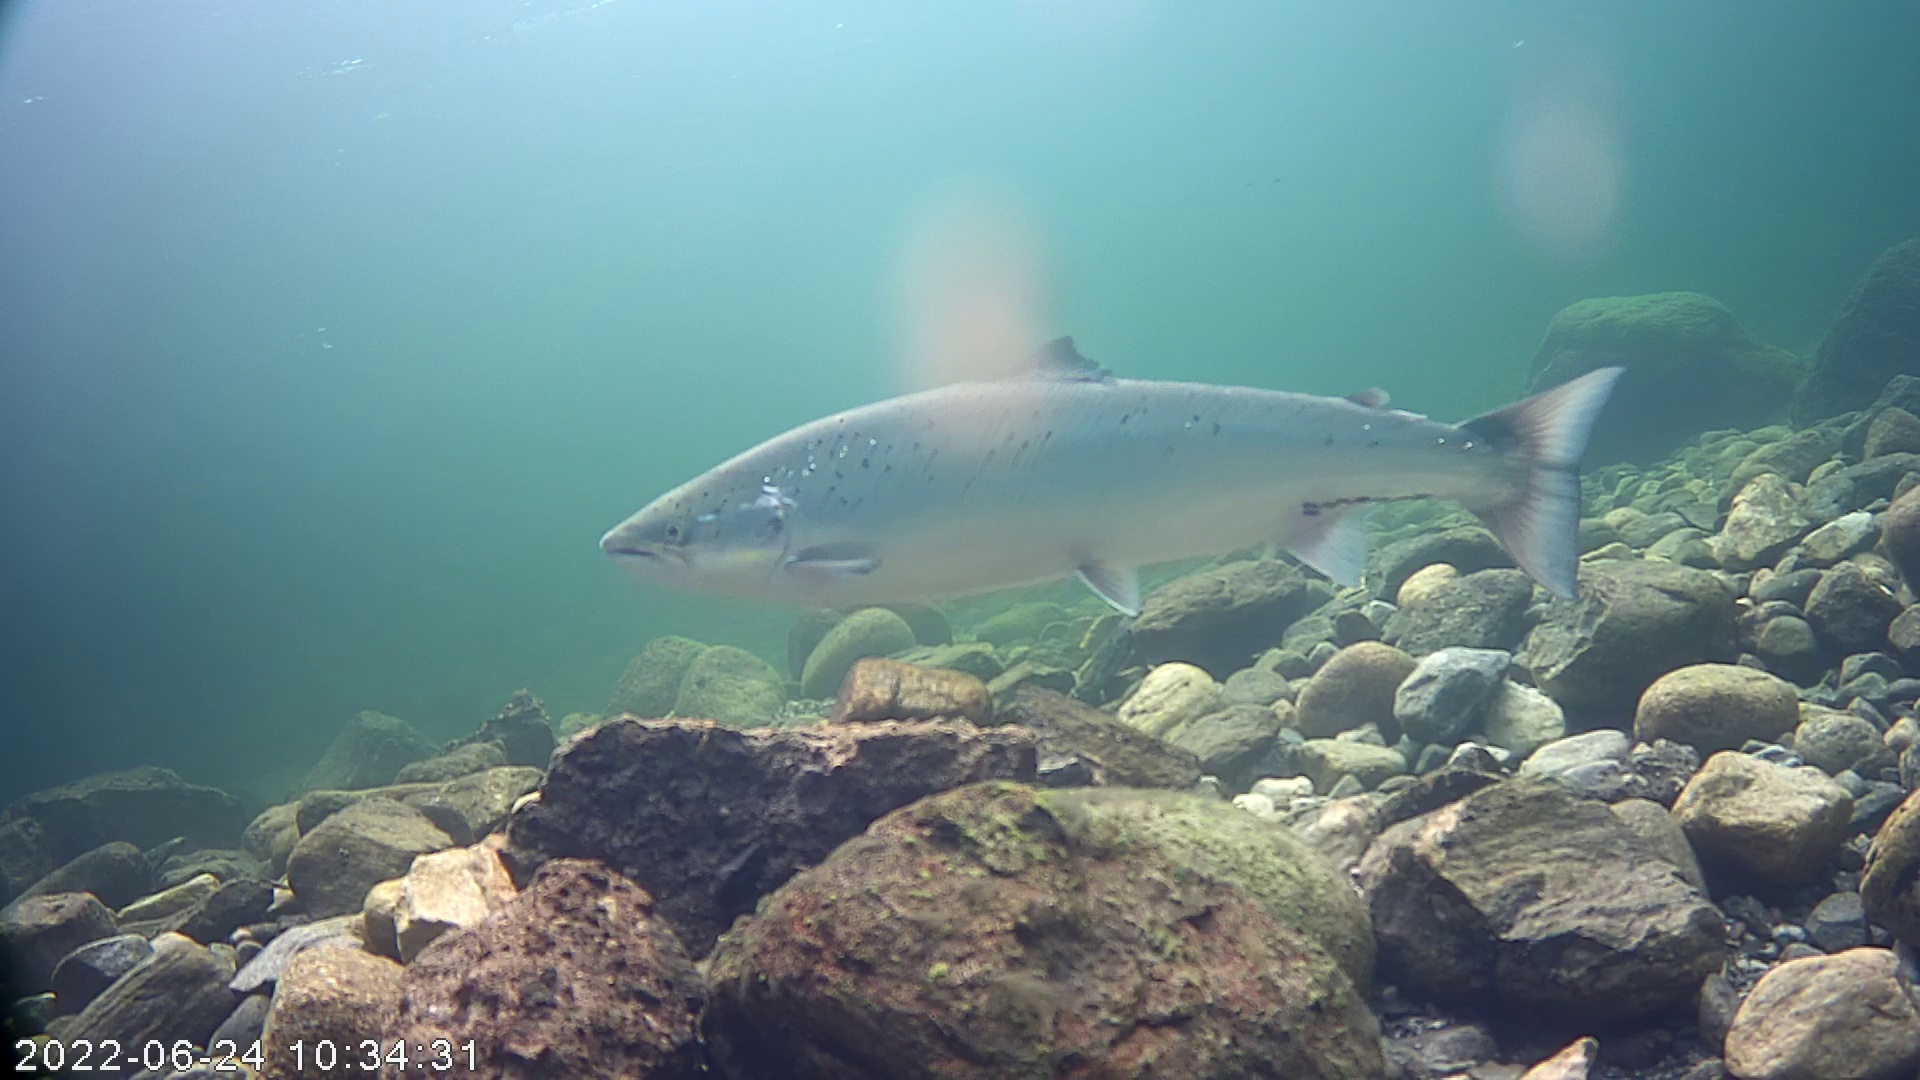salmon: (596, 330, 1629, 620)
